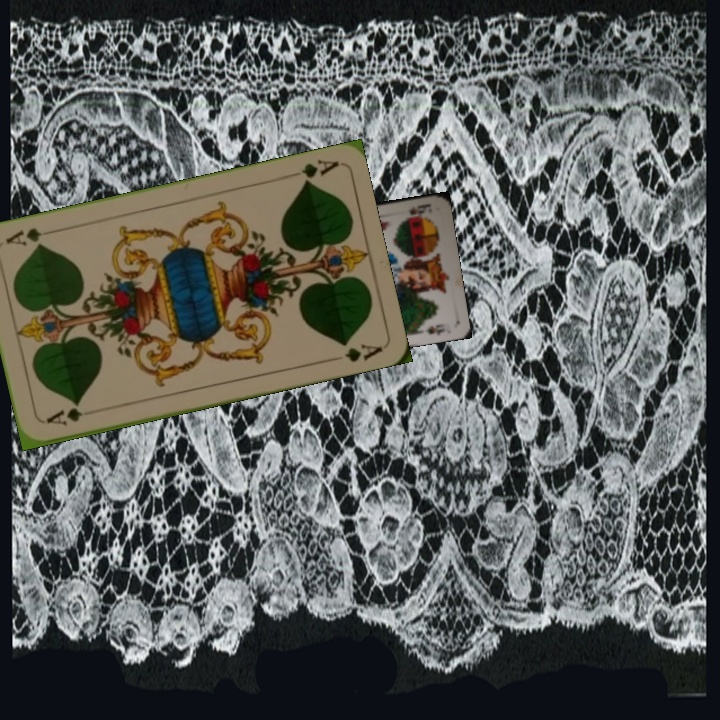GA: (42, 403, 100, 429), (297, 155, 340, 187)
SK: (402, 200, 434, 221)
